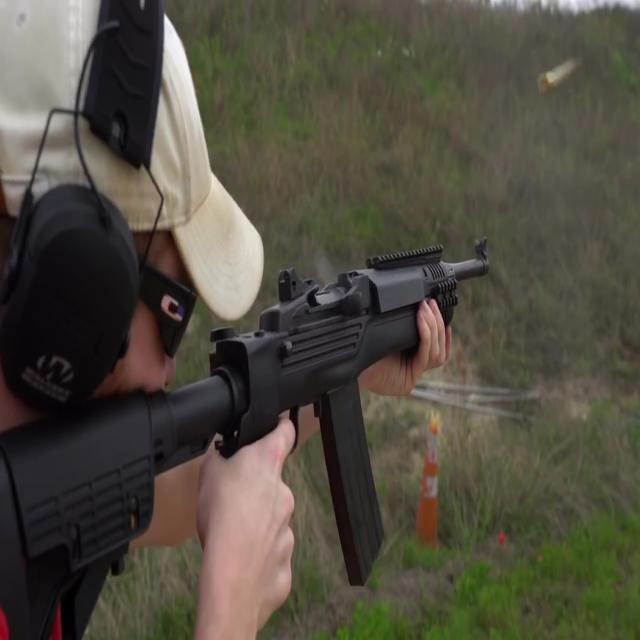Weapon: (0, 169, 541, 640)
